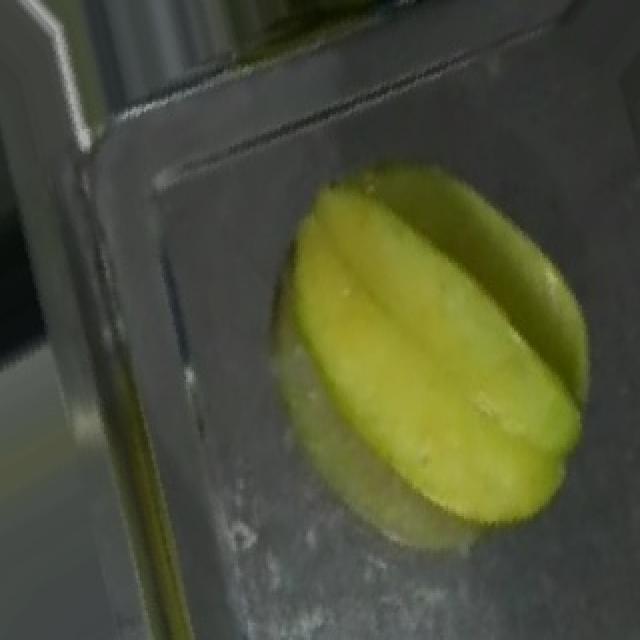fruit: (228, 124, 636, 571)
